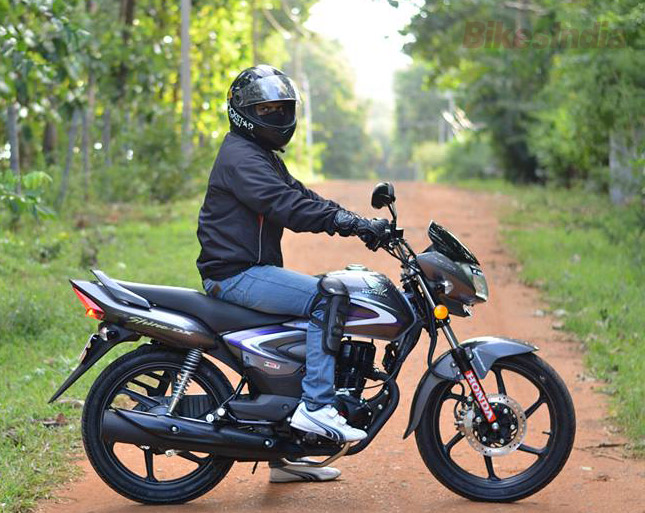helmet: (225, 63, 300, 145)
